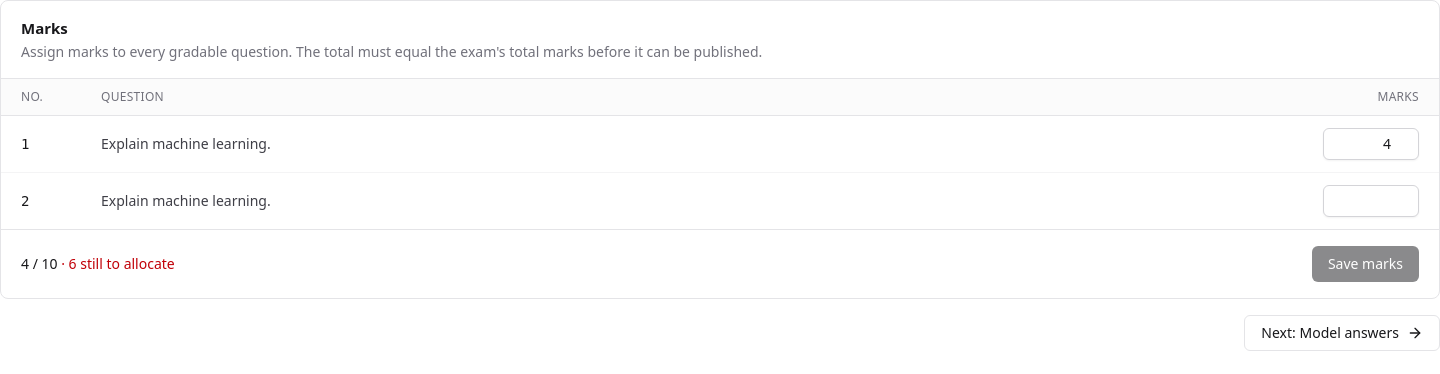
Test: marks step › blocks saving invalid marks
Step 1. Type "1.234" into the number field named "Marks for question 2" → (1371, 200), box [1323, 184, 1419, 216]
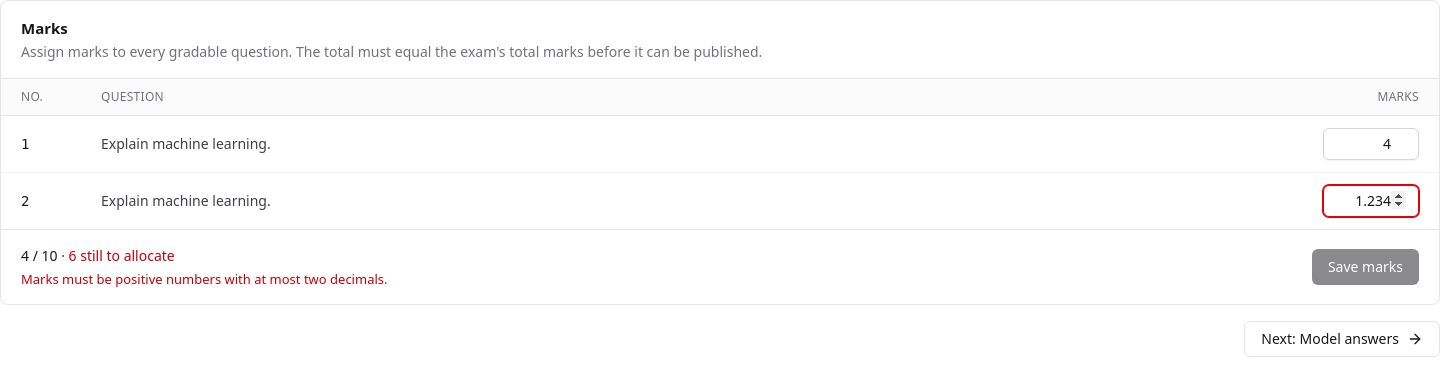
Expected: the button "Save marks" is disabled, [1312, 249, 1419, 285]
Expected: the text "Marks must be positive numbers with at most two decimals." is shown, [21, 270, 388, 288]
